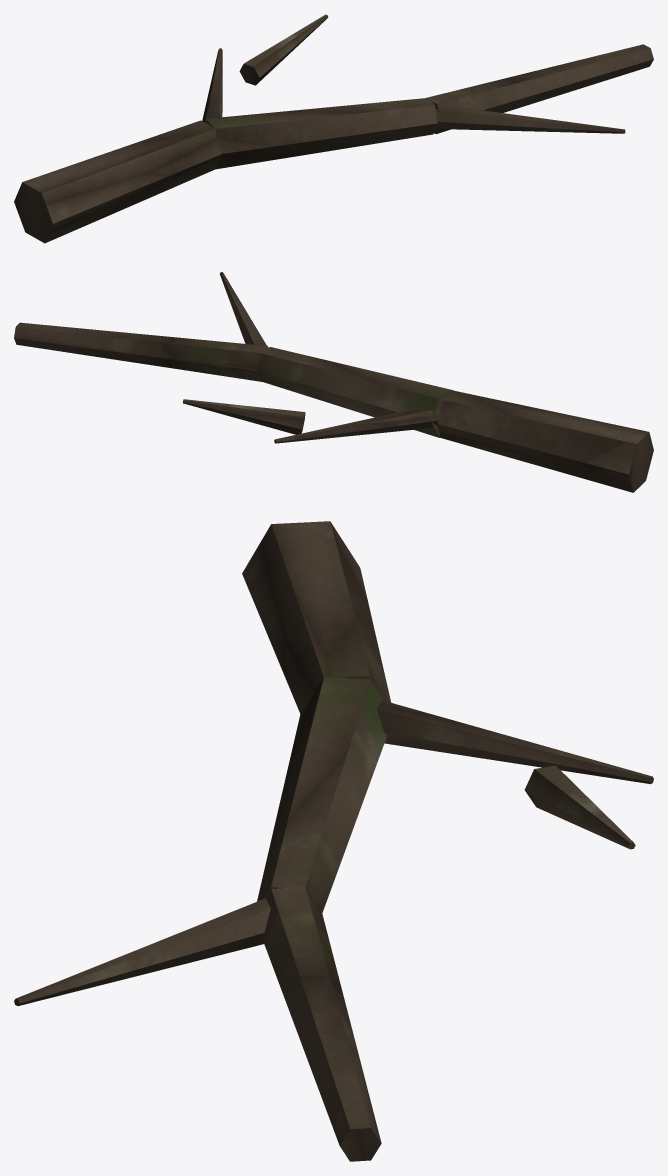
The model's file is FallenBranch.fbx.
The picture shows the model from 3 angles, top to bottom: view 1: azimuth 30°, elevation 25°; view 2: azimuth 150°, elevation 25°; view 3: azimuth 270°, elevation 25°; orthographic projection. The views are drawn at different scales.
Visible parts, largest first — view 1: FallenBranch; view 2: FallenBranch; view 3: FallenBranch.
Boxes of the visible parts, left/top/right/bottom form: FallenBranch: left=14, top=14, right=653, bottom=243; FallenBranch: left=14, top=272, right=653, bottom=492; FallenBranch: left=14, top=521, right=653, bottom=1161.
Size of the model in its own units: 2.02 by 0.1929 by 0.9674.
